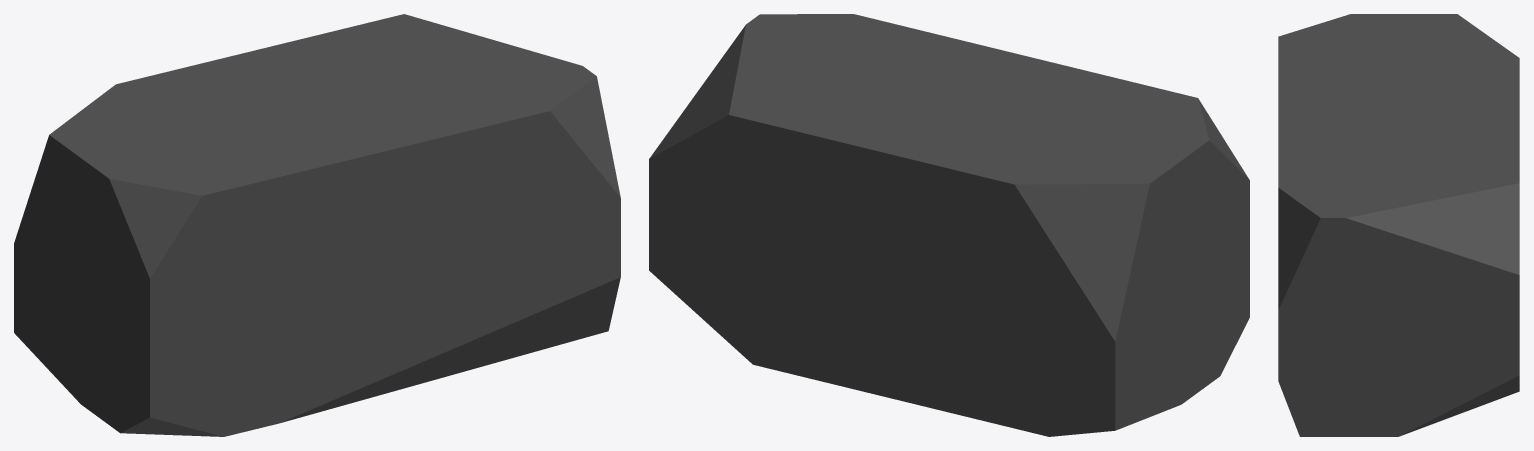
File: Brick_A_07.FBX
3 renders of one model, left to right at view 1: azimuth 30°, elevation 25°; view 2: azimuth 150°, elevation 25°; view 3: azimuth 270°, elevation 25°, orthographic. The views are drawn at different scales.
Parts seen in each view (by area): view 1: Brick_A_07; view 2: Brick_A_07; view 3: Brick_A_07.
Part boxes in pixels (box(x1,y1,x2,y2)): Brick_A_07: box(14, 14, 620, 436); Brick_A_07: box(649, 14, 1249, 436); Brick_A_07: box(1278, 14, 1519, 436).
Bounding box in the file's own units: 2 × 1 × 1.
